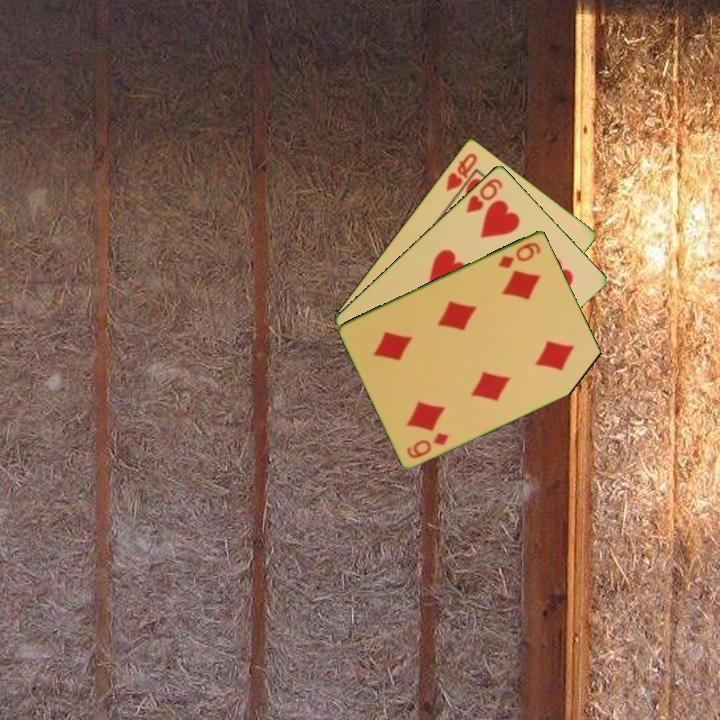6d: (495, 238, 544, 271), (403, 429, 452, 461)
6h: (462, 174, 506, 216)
Qh: (442, 149, 480, 194)
